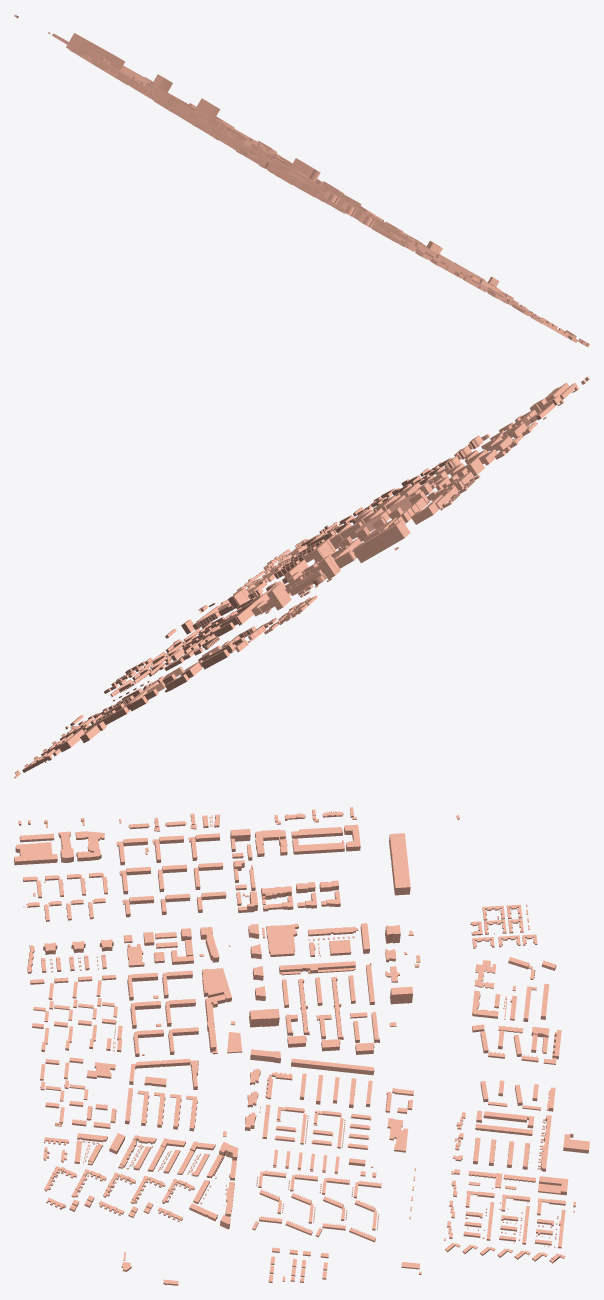
The picture shows the model from 3 angles, top to bottom: view 1: azimuth 30°, elevation 25°; view 2: azimuth 150°, elevation 25°; view 3: azimuth 270°, elevation 25°; orthographic projection. The views are drawn at different scales.
Bounding box in the file's own units: 995 × 742 × 1309.
